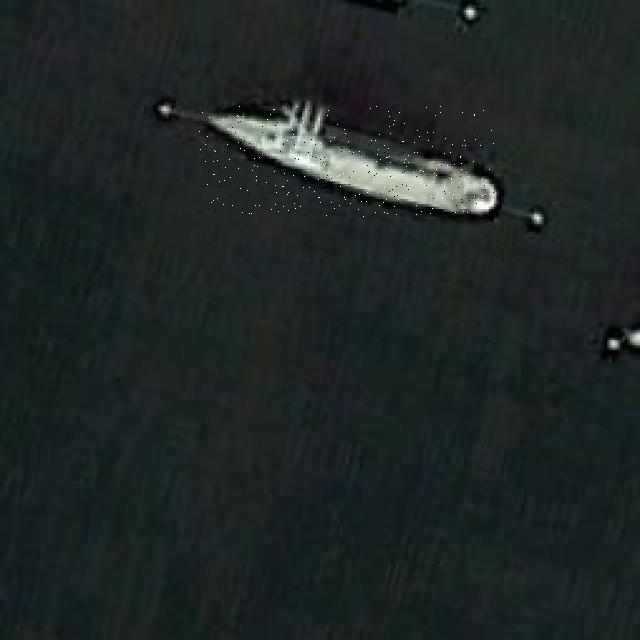boat: (199, 106, 496, 217)
